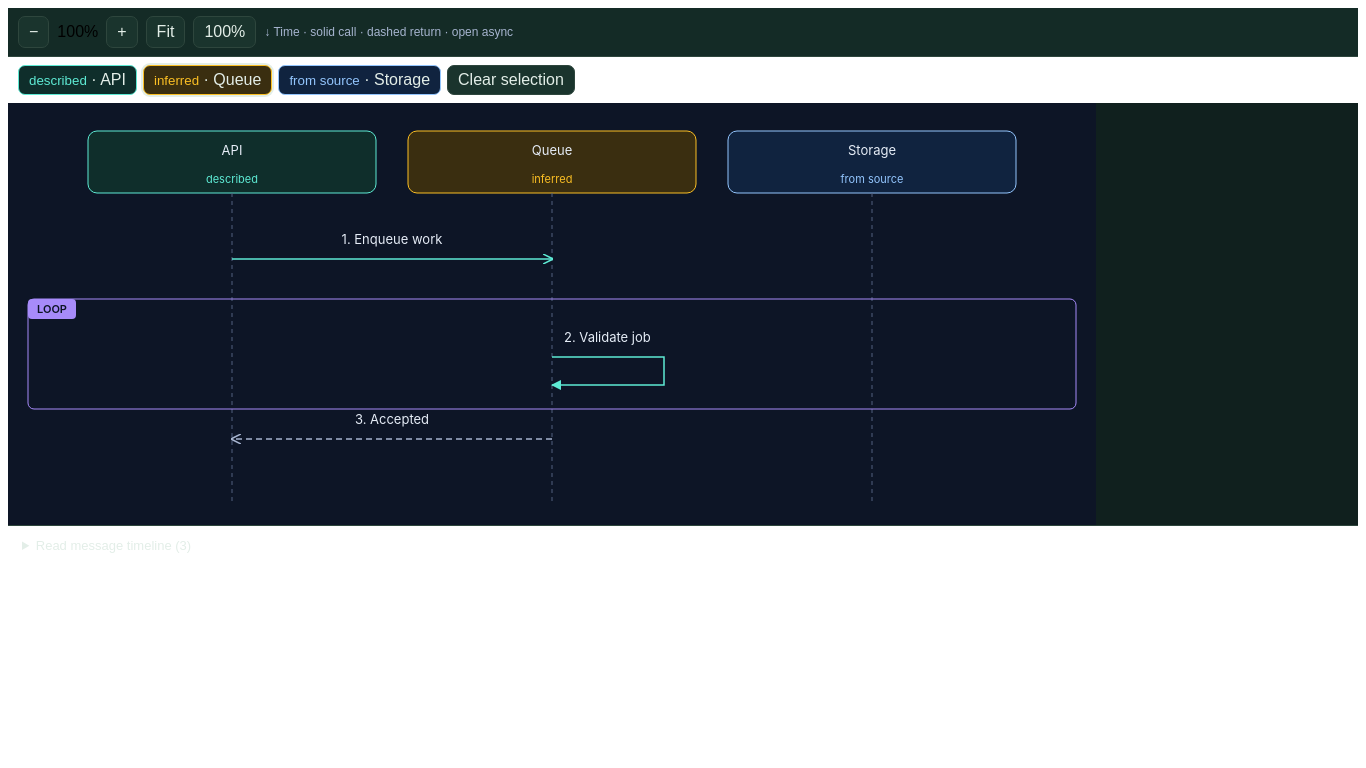
Test: sequence workspace viewer › supports participant inspection, permalink restoration and fit/zoom controls
The image size is (1366, 768).
Click the button with aria-label "Inspect Storage" at (360,80), box [278,65,441,95]
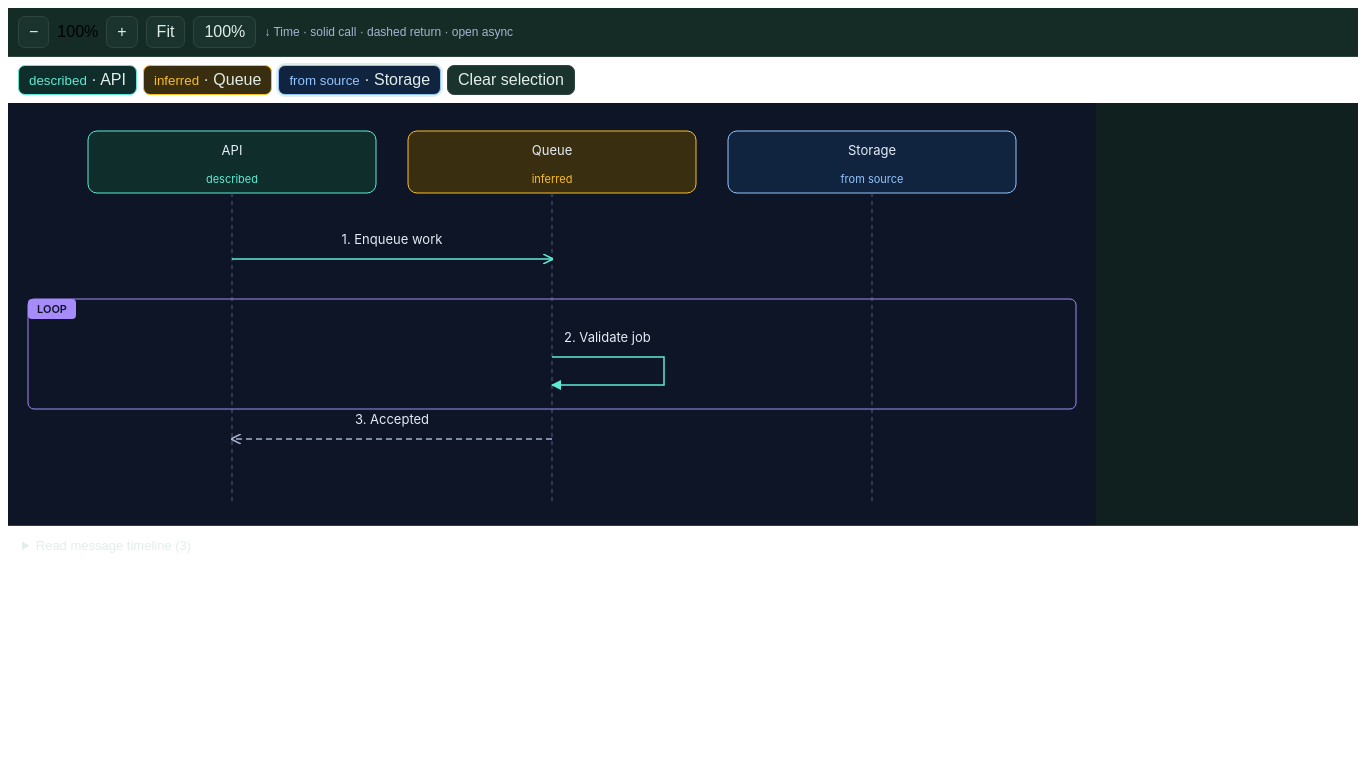
Click the button named "Zoom in timeline" at (122,32), box [106,16,138,48]
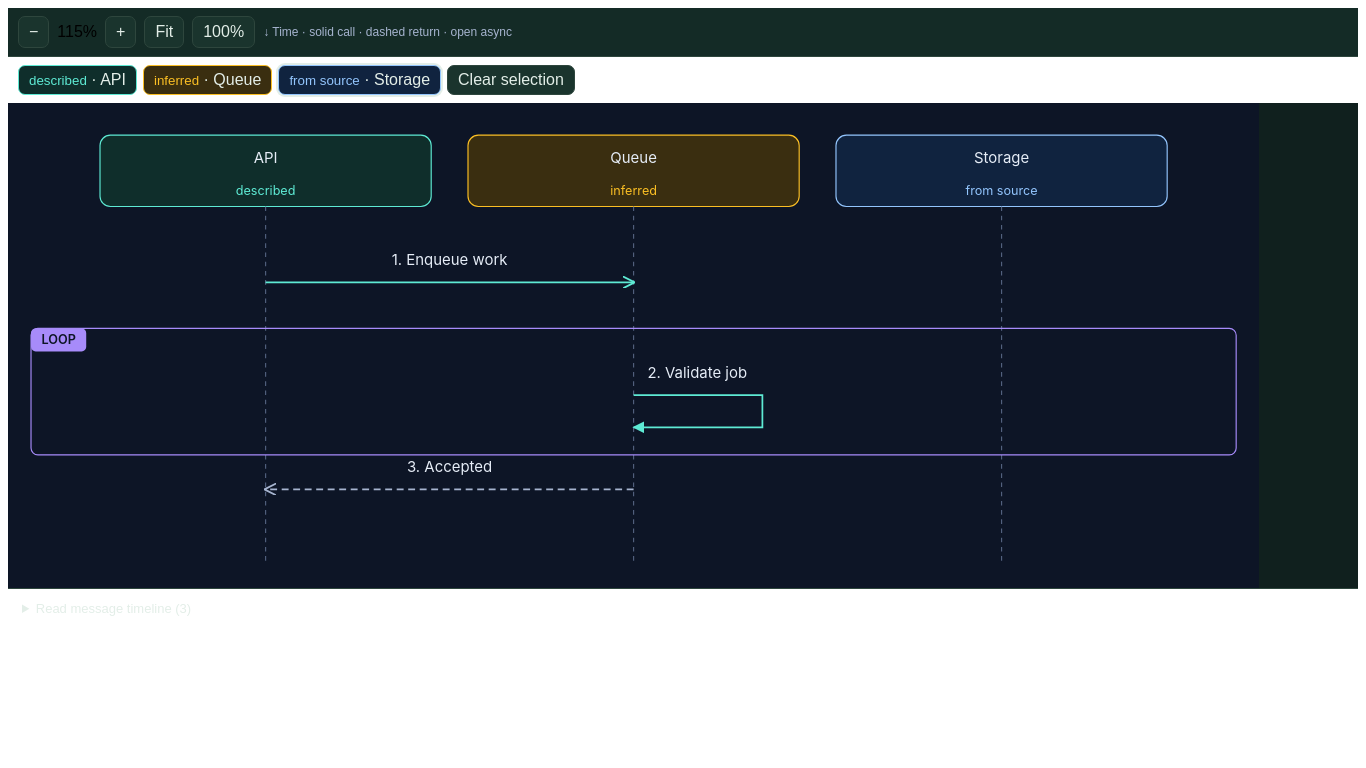
Expected: the element named "Timeline zoom" does not show "Fit"
Click the button "Fit" at (164,32), box [144,16,184,48]
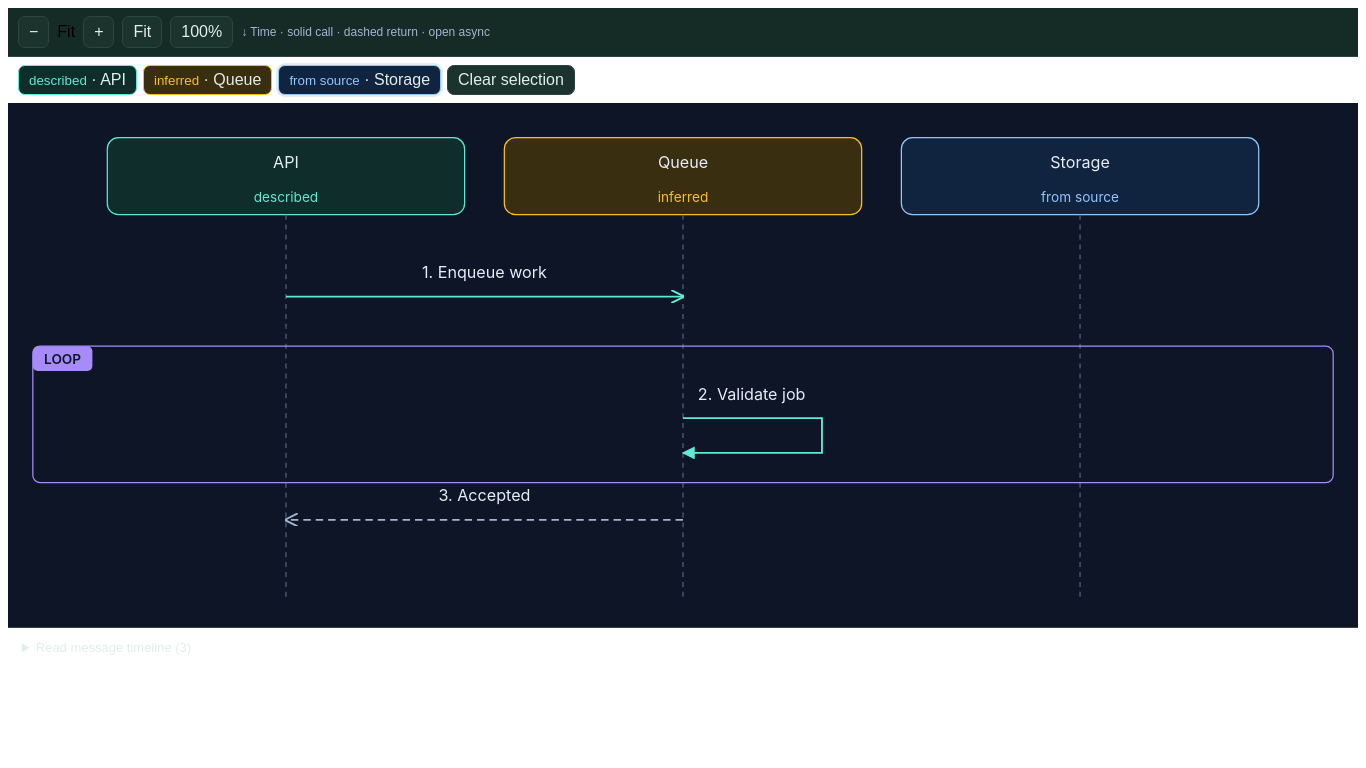
Expected: the text named "Timeline zoom" reads "Fit", [57,23,75,40]
